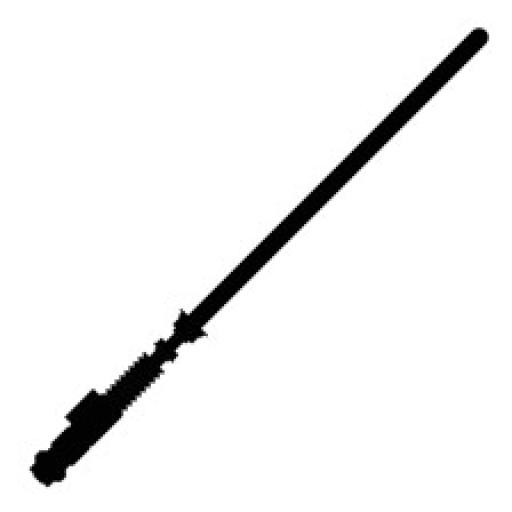lightsaber: (26, 305, 206, 487)
